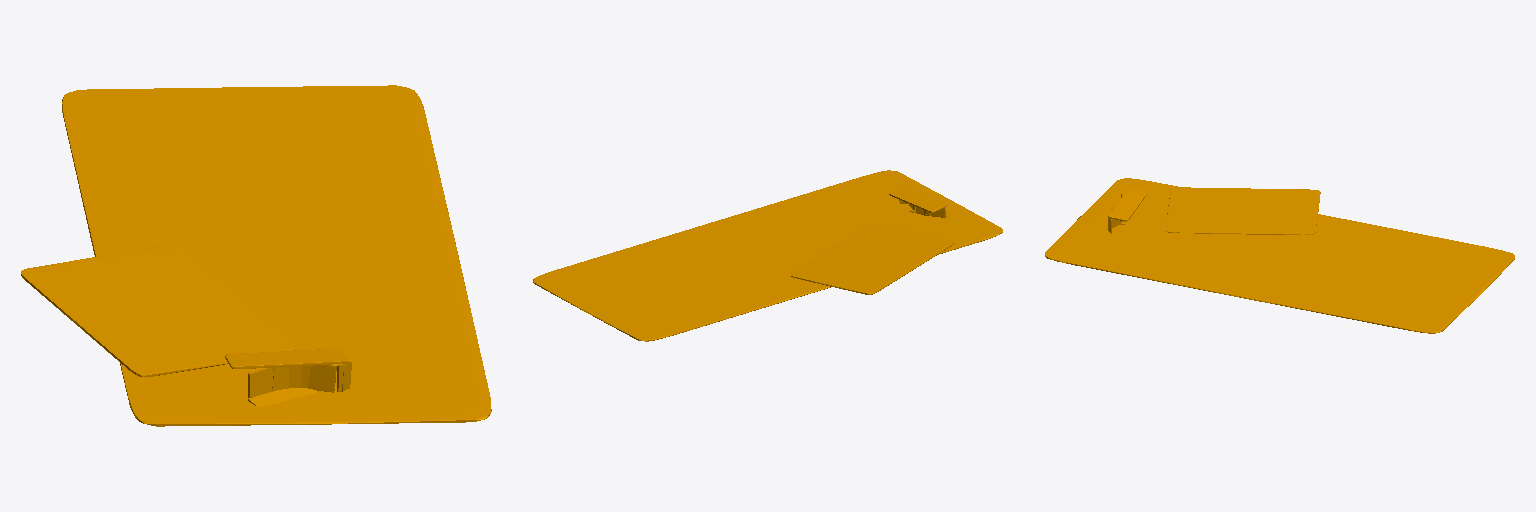
robot.urdf — scene:
<?xml version='1.0' encoding='utf-8'?>
<robot name="scene"><link name="scene_link"><visual><origin xyz="0.000000 0.000000 0.000000" rpy="0.000000 -0.000000 0.000000" /><geometry><mesh filename="part_000.obj" /></geometry></visual><collision><origin xyz="0.000000 0.000000 0.000000" rpy="0.000000 -0.000000 0.000000" /><geometry><mesh filename="part_000.obj" /></geometry></collision><visual><origin xyz="0.000000 0.000000 0.000000" rpy="0.000000 -0.000000 0.000000" /><geometry><mesh filename="part_001.obj" /></geometry></visual><collision><origin xyz="0.000000 0.000000 0.000000" rpy="0.000000 -0.000000 0.000000" /><geometry><mesh filename="part_001.obj" /></geometry></collision><visual><origin xyz="0.000000 0.000000 0.000000" rpy="0.000000 -0.000000 0.000000" /><geometry><mesh filename="part_002.obj" /></geometry></visual><collision><origin xyz="0.000000 0.000000 0.000000" rpy="0.000000 -0.000000 0.000000" /><geometry><mesh filename="part_002.obj" /></geometry></collision><visual><origin xyz="0.000000 0.000000 0.000000" rpy="0.000000 -0.000000 0.000000" /><geometry><mesh filename="part_003.obj" /></geometry></visual><collision><origin xyz="0.000000 0.000000 0.000000" rpy="0.000000 -0.000000 0.000000" /><geometry><mesh filename="part_003.obj" /></geometry></collision><visual><origin xyz="0.000000 0.000000 0.000000" rpy="0.000000 -0.000000 0.000000" /><geometry><mesh filename="part_004.obj" /></geometry></visual><collision><origin xyz="0.000000 0.000000 0.000000" rpy="0.000000 -0.000000 0.000000" /><geometry><mesh filename="part_004.obj" /></geometry></collision><visual><origin xyz="0.000000 0.000000 0.000000" rpy="0.000000 -0.000000 0.000000" /><geometry><mesh filename="part_005.obj" /></geometry></visual><collision><origin xyz="0.000000 0.000000 0.000000" rpy="0.000000 -0.000000 0.000000" /><geometry><mesh filename="part_005.obj" /></geometry></collision><visual><origin xyz="0.000000 0.000000 0.000000" rpy="0.000000 -0.000000 0.000000" /><geometry><mesh filename="part_006.obj" /></geometry></visual><collision><origin xyz="0.000000 0.000000 0.000000" rpy="0.000000 -0.000000 0.000000" /><geometry><mesh filename="part_006.obj" /></geometry></collision><visual><origin xyz="0.000000 0.000000 0.000000" rpy="0.000000 -0.000000 0.000000" /><geometry><mesh filename="part_007.obj" /></geometry></visual><collision><origin xyz="0.000000 0.000000 0.000000" rpy="0.000000 -0.000000 0.000000" /><geometry><mesh filename="part_007.obj" /></geometry></collision><visual><origin xyz="0.000000 0.000000 0.000000" rpy="0.000000 -0.000000 0.000000" /><geometry><mesh filename="part_008.obj" /></geometry></visual><collision><origin xyz="0.000000 0.000000 0.000000" rpy="0.000000 -0.000000 0.000000" /><geometry><mesh filename="part_008.obj" /></geometry></collision><visual><origin xyz="0.000000 0.000000 0.000000" rpy="0.000000 -0.000000 0.000000" /><geometry><mesh filename="part_009.obj" /></geometry></visual><collision><origin xyz="0.000000 0.000000 0.000000" rpy="0.000000 -0.000000 0.000000" /><geometry><mesh filename="part_009.obj" /></geometry></collision><visual><origin xyz="0.000000 0.000000 0.000000" rpy="0.000000 -0.000000 0.000000" /><geometry><mesh filename="part_010.obj" /></geometry></visual><collision><origin xyz="0.000000 0.000000 0.000000" rpy="0.000000 -0.000000 0.000000" /><geometry><mesh filename="part_010.obj" /></geometry></collision><visual><origin xyz="0.000000 0.000000 0.000000" rpy="0.000000 -0.000000 0.000000" /><geometry><mesh filename="part_011.obj" /></geometry></visual><collision><origin xyz="0.000000 0.000000 0.000000" rpy="0.000000 -0.000000 0.000000" /><geometry><mesh filename="part_011.obj" /></geometry></collision><visual><origin xyz="0.000000 0.000000 0.000000" rpy="0.000000 -0.000000 0.000000" /><geometry><mesh filename="part_012.obj" /></geometry></visual><collision><origin xyz="0.000000 0.000000 0.000000" rpy="0.000000 -0.000000 0.000000" /><geometry><mesh filename="part_012.obj" /></geometry></collision><visual><origin xyz="0.000000 0.000000 0.000000" rpy="0.000000 -0.000000 0.000000" /><geometry><mesh filename="part_013.obj" /></geometry></visual><collision><origin xyz="0.000000 0.000000 0.000000" rpy="0.000000 -0.000000 0.000000" /><geometry><mesh filename="part_013.obj" /></geometry></collision></link></robot>

--- Render facts (derived) ---
3 views of the same robot in one strip: view 1: azimuth 30°, elevation 25°; view 2: azimuth 150°, elevation 25°; view 3: azimuth 270°, elevation 25° (orthographic).
Robot: scene — 1 links, 0 joints (none); root link scene_link; default pose: all joints at 0.
Visible links, largest first — view 1: scene_link; view 2: scene_link; view 3: scene_link.
Boxes of the visible links, bbox=[...] form: scene_link: bbox=[21, 85, 491, 426]; scene_link: bbox=[533, 170, 1002, 341]; scene_link: bbox=[1045, 178, 1514, 333].
Size in the robot's own frame: 8.19 by 11.01 by 0.5945 metres.
14 mesh visuals loaded from 14 distinct referenced files (14 OBJ).